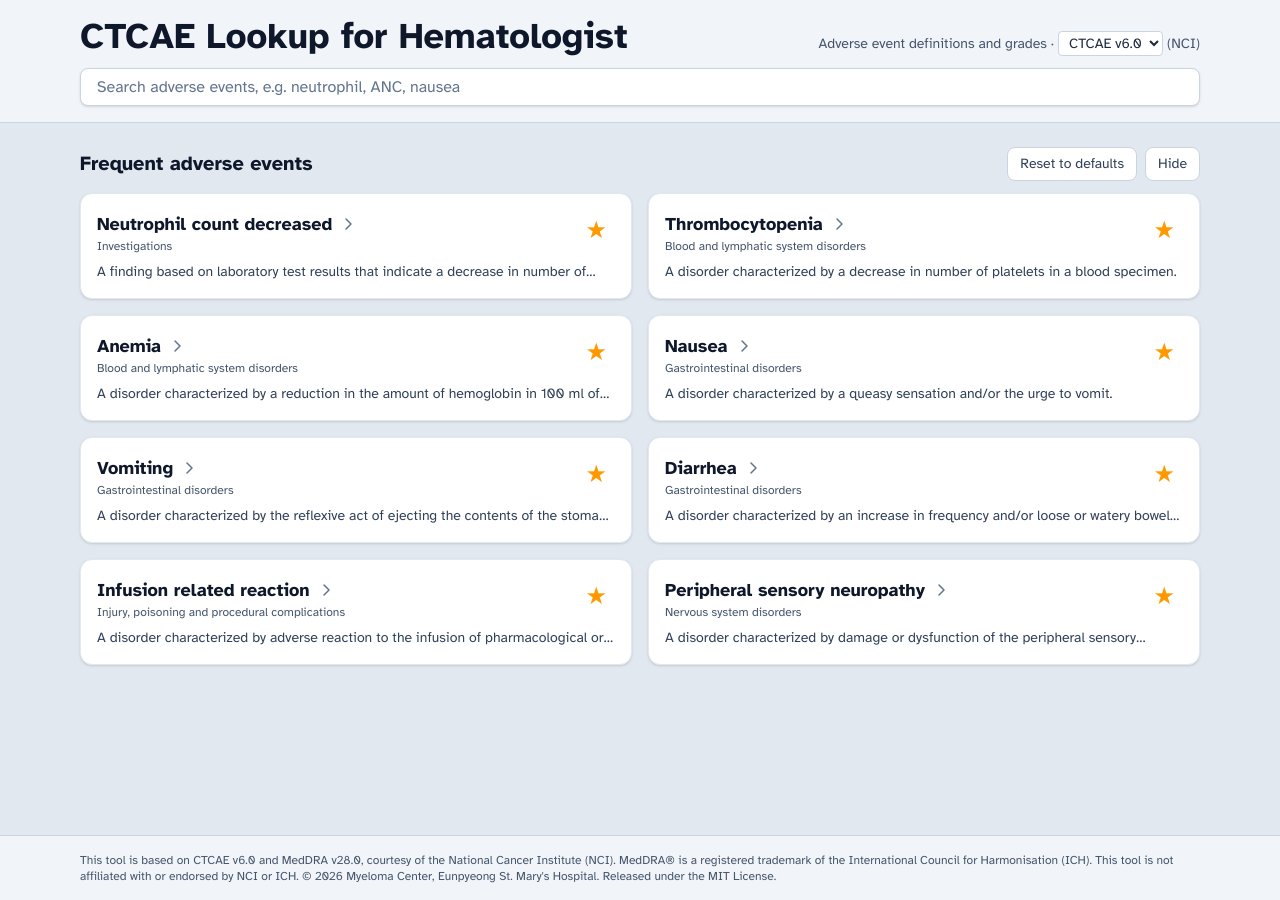
Scenario: favorite cards start with grades hidden and clicking the card shows them
Expected: the text "Grade 1" is not shown
Step 1. Click the text "reduction in the amount of hemoglobin" → {"x": 356, "y": 394}, box [97, 384, 615, 404]
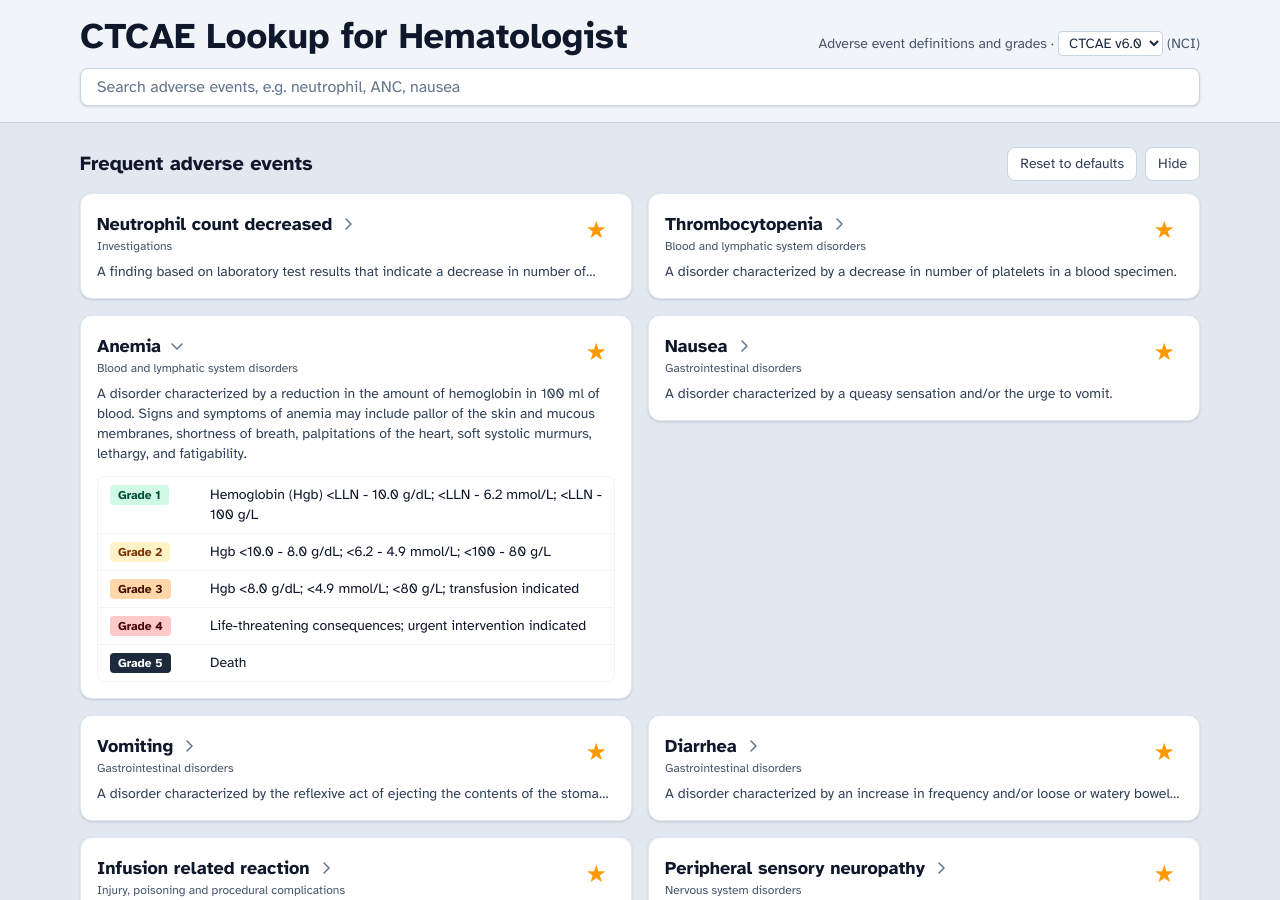
Expected: the text "Grade 1" is shown, [110, 485, 169, 505]
Expected: the button "Anemia" is expanded
Step 2. Click the button "Anemia" → {"x": 141, "y": 346}, box [97, 332, 185, 360]
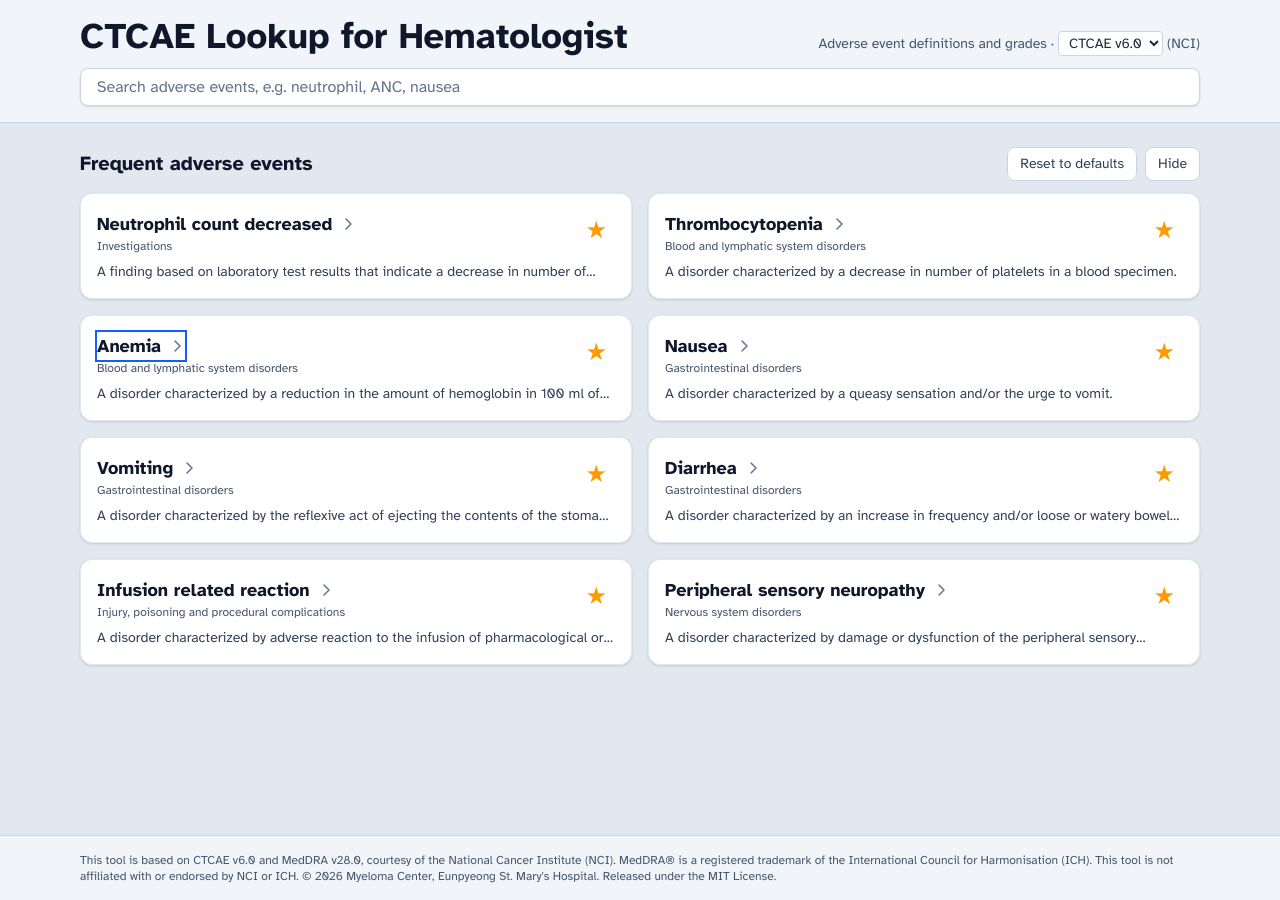
Expected: the text "Grade 1" is gone
